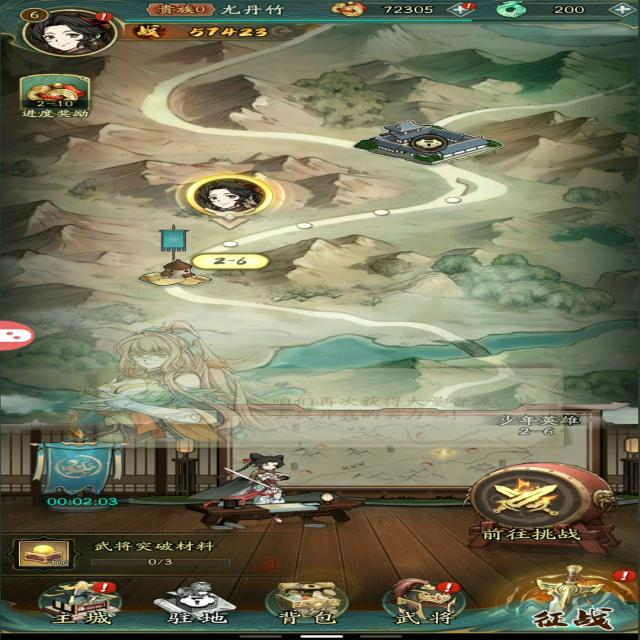hint-guide: (67, 330, 606, 456)
hint-reddot: (431, 580, 466, 597), (88, 581, 120, 597), (610, 567, 640, 583), (89, 10, 118, 22), (458, 1, 481, 11)
navigation-bag: (258, 576, 357, 626)
navigation-fight: (504, 562, 640, 632)
navigation-hero: (376, 572, 480, 628)
navigation-main: (24, 576, 135, 627)
navigation-role: (15, 2, 134, 60)
navigation-station-off: (147, 578, 241, 629)
operation-TaskCollection: (6, 533, 231, 571)
operation-Vip: (125, 0, 231, 19)
operation-challenge: (455, 455, 624, 540)
operation-progressRewards: (6, 66, 122, 126)
operation-quickFight: (26, 444, 148, 516)
